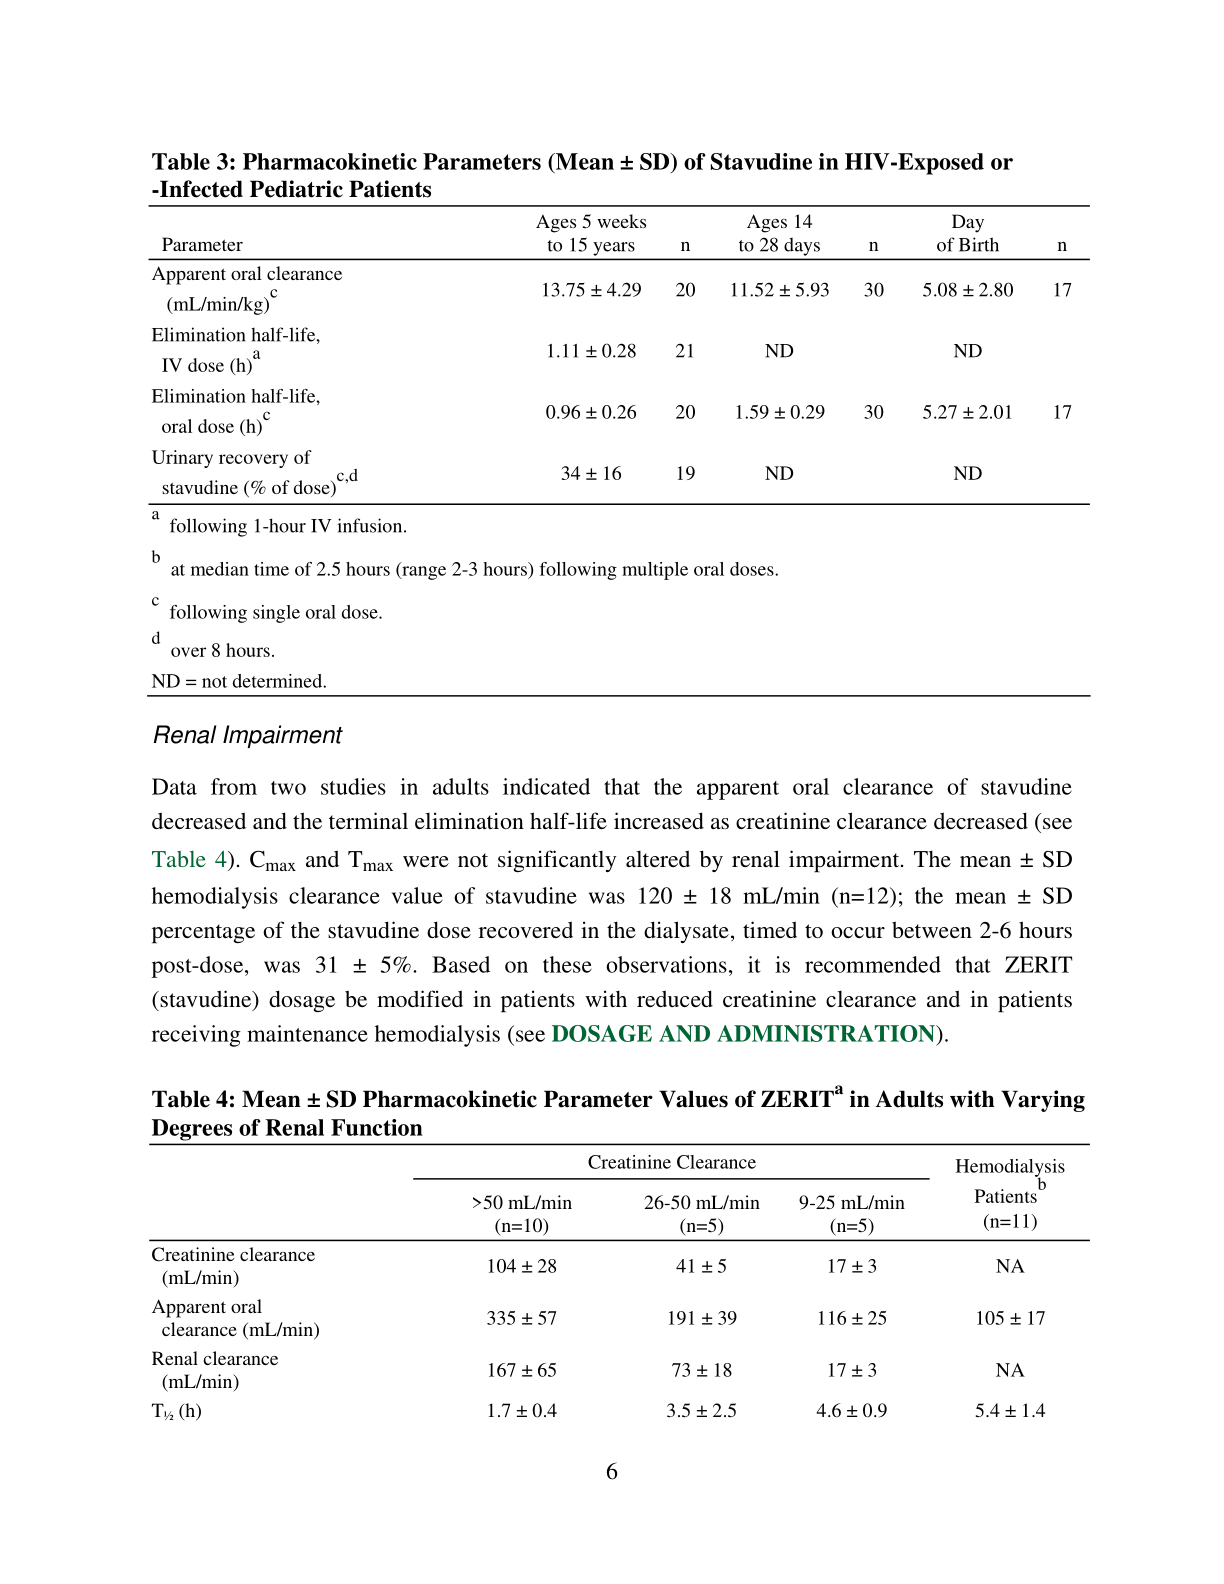partial_lined: (147, 204, 1092, 507)
partial_lined_merged_cells: (150, 1144, 1094, 1430)
